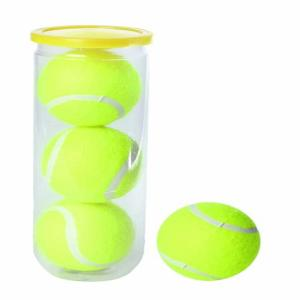Tennis: (31, 47, 162, 130), (150, 197, 266, 283), (34, 124, 148, 208), (24, 197, 140, 275)
